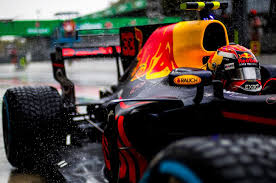f1_car: (1, 1, 276, 182)
